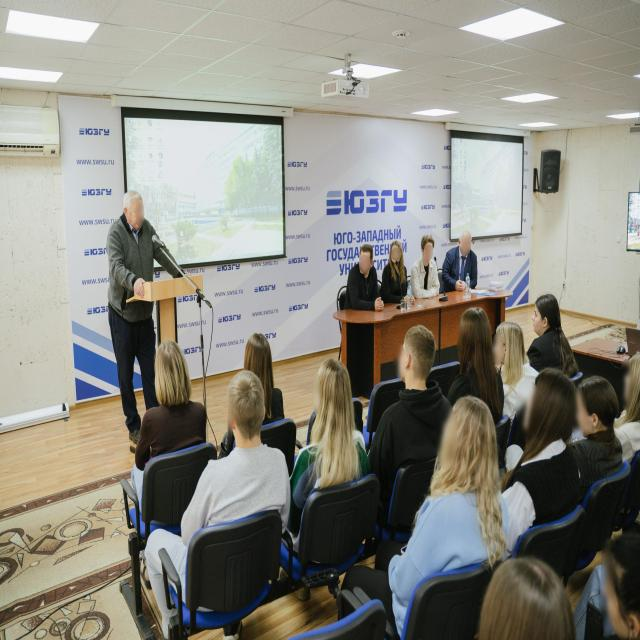Person: (394, 396, 507, 603), (494, 363, 582, 558), (197, 372, 287, 546), (121, 334, 205, 510), (100, 161, 164, 390), (385, 319, 449, 471), (476, 544, 576, 640), (309, 349, 366, 500), (586, 524, 639, 640), (573, 366, 621, 490), (494, 316, 544, 418), (456, 299, 495, 420), (526, 273, 576, 367), (244, 329, 292, 425), (344, 238, 380, 320), (408, 230, 449, 302), (383, 234, 413, 330), (621, 345, 640, 470), (458, 219, 481, 279)
